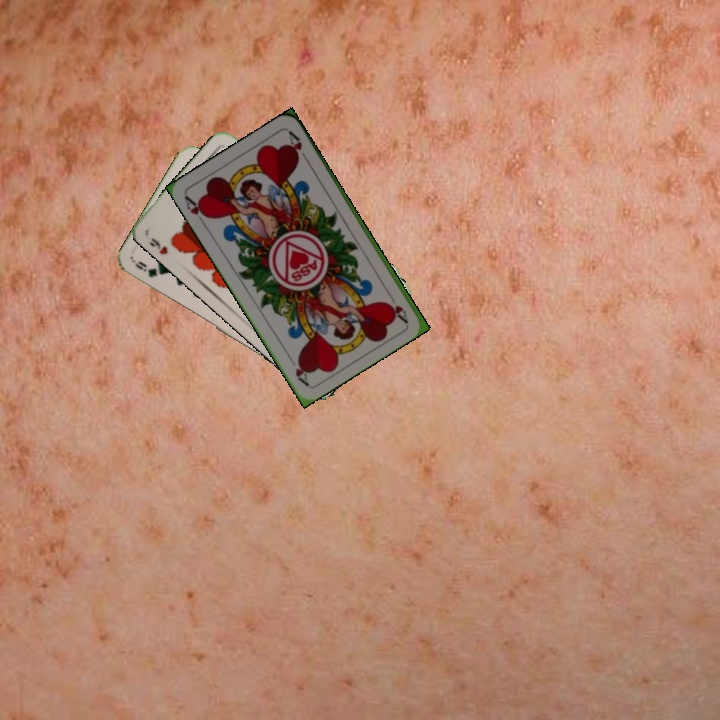G9: (130, 257, 165, 280)
H9: (144, 234, 170, 257)
HA: (181, 192, 213, 228), (383, 288, 410, 325)
